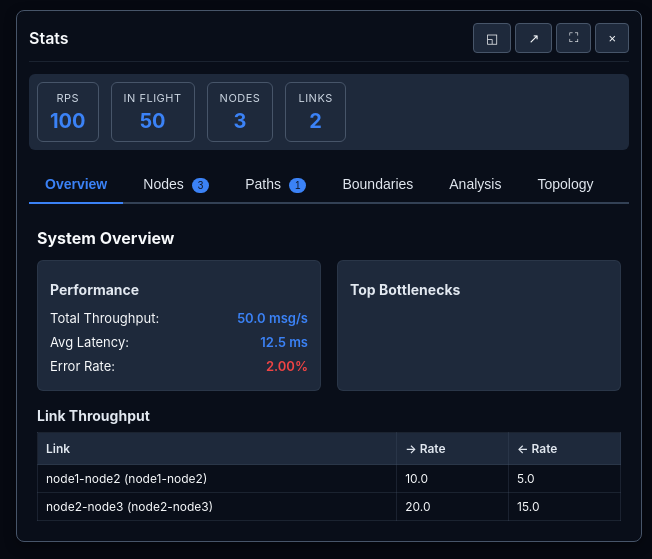
Test: StatsOverlayEnhanced › shows boundaries tab with empty state when no groups
Step 1. Click the button with class "stats-tab" showing "Boundaries" → x=378, y=184, box x1=326 y1=166 x2=429 y2=202
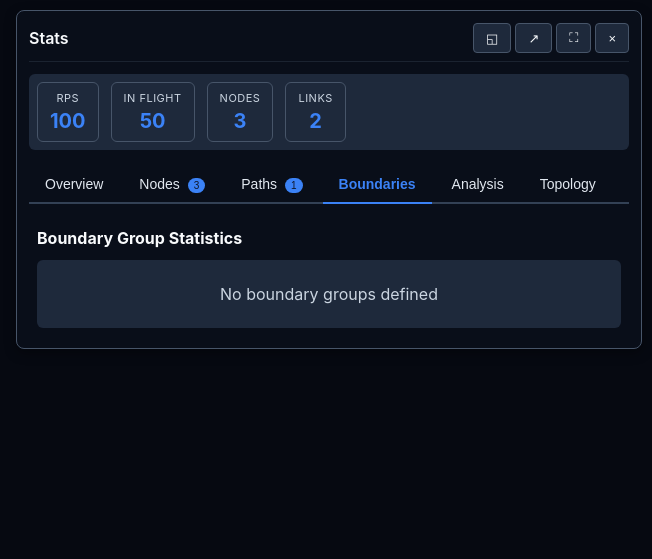
Check: the text "No boundary groups defined" is shown, box x1=37 y1=260 x2=621 y2=328
